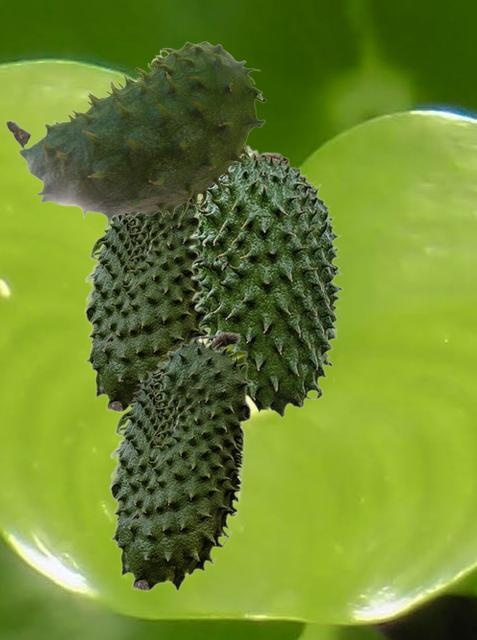guyabano: (5, 41, 265, 228), (188, 144, 343, 417), (108, 331, 252, 591), (83, 200, 207, 412)
